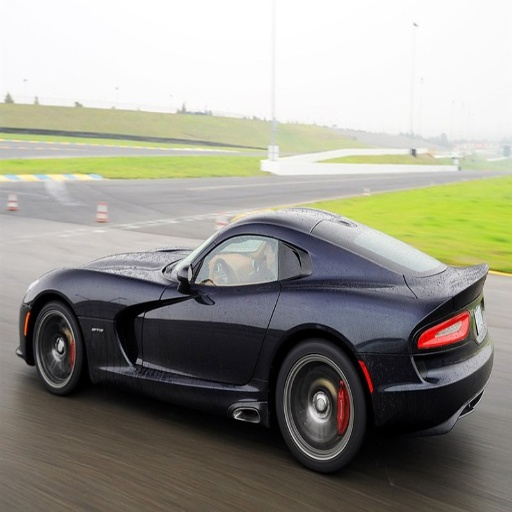back_left_door: (224, 222, 297, 342)
